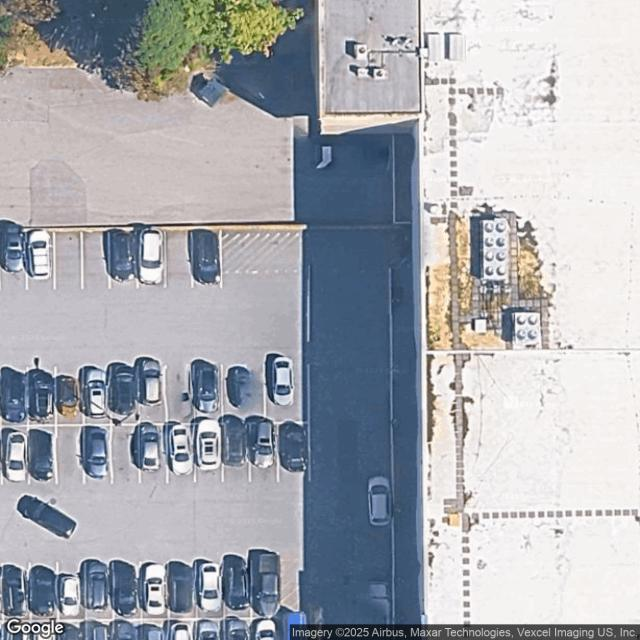car: (191, 230, 220, 284), (258, 551, 281, 617), (250, 415, 276, 469), (279, 421, 306, 473), (193, 363, 220, 413), (112, 561, 137, 615), (108, 233, 136, 281), (85, 427, 109, 480), (140, 230, 163, 285), (32, 563, 55, 618), (171, 562, 195, 613), (2, 371, 25, 422), (2, 565, 24, 618), (86, 368, 108, 419), (114, 364, 136, 415), (144, 563, 166, 614), (169, 426, 192, 474), (200, 563, 222, 613), (229, 558, 251, 608), (29, 231, 51, 280), (274, 356, 294, 408), (224, 419, 246, 466), (87, 564, 109, 611), (140, 360, 162, 404), (33, 371, 53, 418), (199, 420, 218, 469), (140, 426, 161, 470), (8, 431, 26, 481), (3, 233, 26, 272), (34, 432, 52, 480), (61, 574, 80, 616), (232, 365, 250, 407), (60, 375, 79, 412), (3, 620, 26, 640), (254, 621, 278, 640), (224, 620, 249, 638), (171, 621, 193, 639), (142, 623, 165, 640), (60, 622, 81, 640), (197, 622, 219, 638), (88, 621, 108, 638), (34, 622, 52, 640), (116, 622, 135, 638)
lot_boundary: (0, 226, 306, 639)
objects: (222, 229, 300, 277), (281, 561, 299, 611), (282, 612, 307, 638)
stall: (224, 366, 265, 424), (266, 366, 306, 423), (139, 424, 168, 482), (54, 232, 83, 289), (81, 231, 110, 288), (27, 232, 56, 289), (110, 367, 139, 424), (167, 424, 196, 481), (277, 424, 306, 481), (109, 230, 137, 288), (165, 230, 193, 288), (28, 368, 56, 426), (111, 426, 140, 482), (83, 426, 112, 482), (56, 424, 84, 482), (195, 424, 223, 482), (250, 424, 278, 482), (223, 424, 251, 482), (85, 560, 113, 618), (141, 560, 169, 618), (252, 560, 280, 618), (138, 231, 166, 288), (192, 230, 220, 287), (195, 366, 223, 423), (0, 368, 28, 425), (224, 560, 252, 617), (0, 563, 28, 620), (138, 366, 166, 422), (55, 368, 83, 424), (84, 368, 112, 424), (166, 366, 194, 422), (27, 426, 55, 482), (114, 560, 141, 618), (29, 562, 56, 620), (169, 560, 196, 617), (196, 561, 223, 618), (58, 562, 85, 618), (2, 233, 28, 289), (0, 425, 26, 481), (196, 618, 225, 640), (254, 618, 282, 640), (169, 618, 197, 640), (140, 618, 168, 640), (112, 618, 140, 640), (225, 618, 252, 640), (1, 620, 30, 640), (85, 620, 114, 640), (58, 618, 84, 640), (28, 620, 56, 640)
